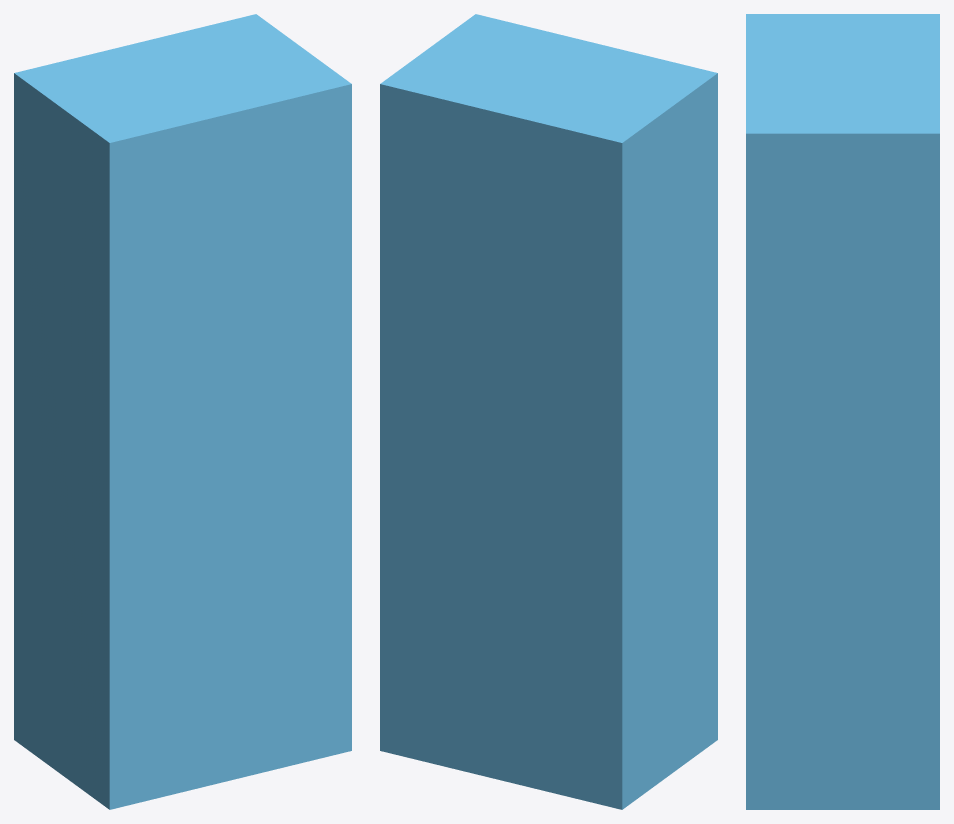
The model's file is sample-character.gltf.
The picture shows the model from 3 angles, left to right: view 1: azimuth 30°, elevation 25°; view 2: azimuth 150°, elevation 25°; view 3: azimuth 270°, elevation 25°; orthographic projection.
Parts seen in each view (by area): view 1: SampleCharacterRoot; view 2: SampleCharacterRoot; view 3: SampleCharacterRoot.
Boxes of the visible parts, box(x1,y1,x2,y2) form: SampleCharacterRoot: box(14, 14, 351, 809); SampleCharacterRoot: box(380, 14, 717, 809); SampleCharacterRoot: box(746, 14, 939, 809).
Bounding box in the file's own units: 0.38 × 1 × 0.26.
